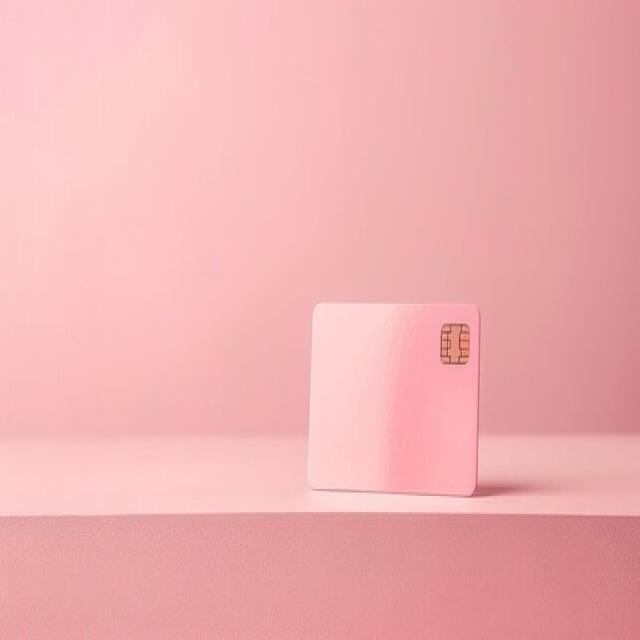payment_card: (306, 300, 481, 497)
